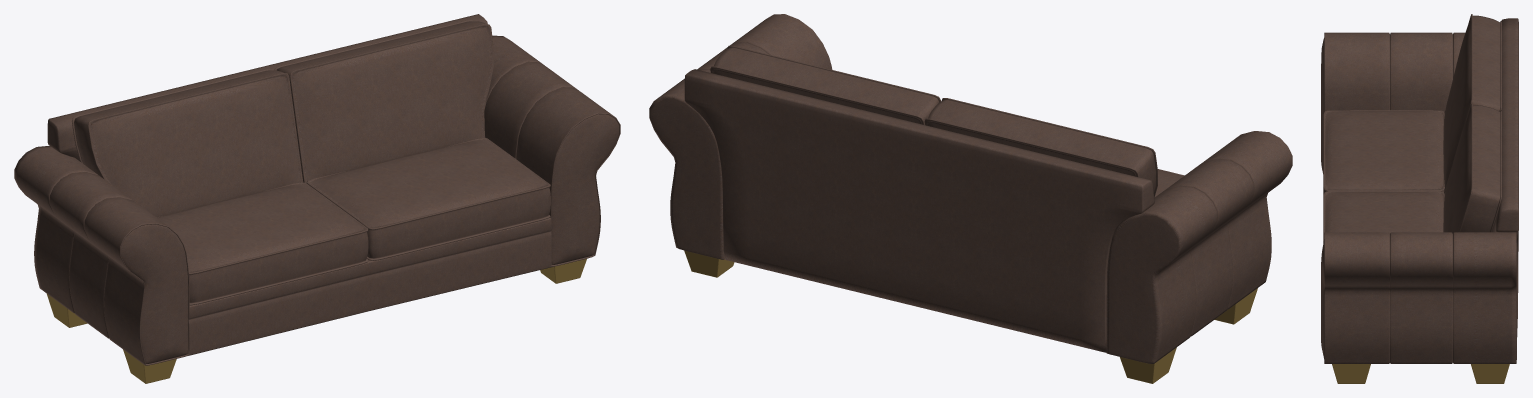
Rendered from sofa3.glb.
3 views of the same model, side by side, from view 1: azimuth 30°, elevation 25°; view 2: azimuth 150°, elevation 25°; view 3: azimuth 270°, elevation 25° (orthographic). The views are drawn at different scales.
Visible parts, largest first — view 1: sofa3; view 2: sofa3; view 3: sofa3.
Part boxes in pixels (bbox=[...]): sofa3: bbox=[14, 14, 620, 383]; sofa3: bbox=[649, 14, 1292, 383]; sofa3: bbox=[1321, 14, 1518, 383].
Bounding box in the file's own units: 2.04 × 0.7994 × 0.7696.
2 materials, 1 textured.
